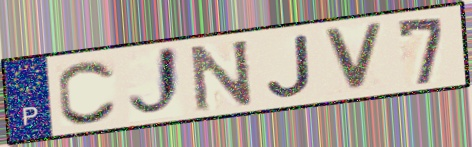7: (395, 16, 445, 87)
C: (55, 58, 120, 126)
J: (125, 43, 186, 123), (264, 32, 314, 99)
N: (187, 36, 256, 114)
V: (320, 21, 387, 93)
